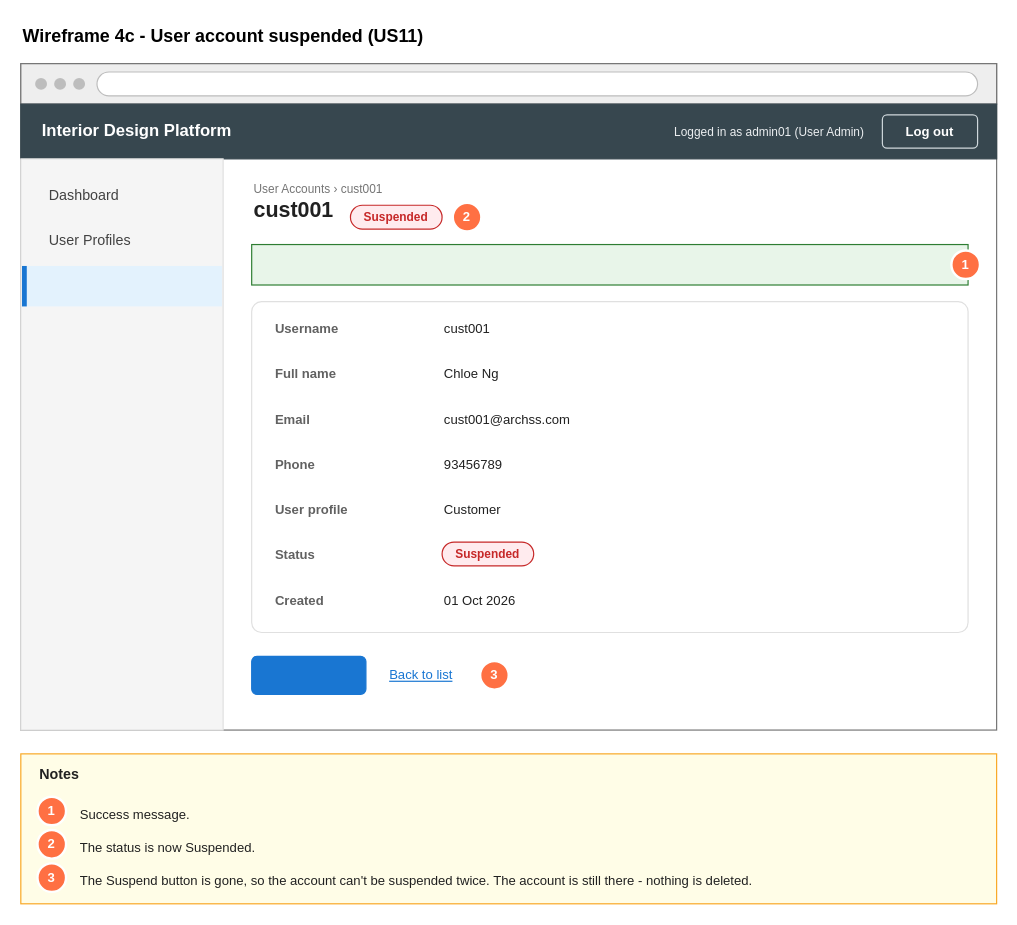
Some shapes in this 1017 by 925 pixel diagram are drawn without their labels. Here are the shapes that lost their labels. From the top down, the box of each, then its label:
(96, 71, 978, 96): localhost:8080/admin/accounts/3
(250, 243, 968, 285): ✔ User account suspended successfully
(21, 265, 221, 306): User Accounts
(250, 655, 366, 694): Update
